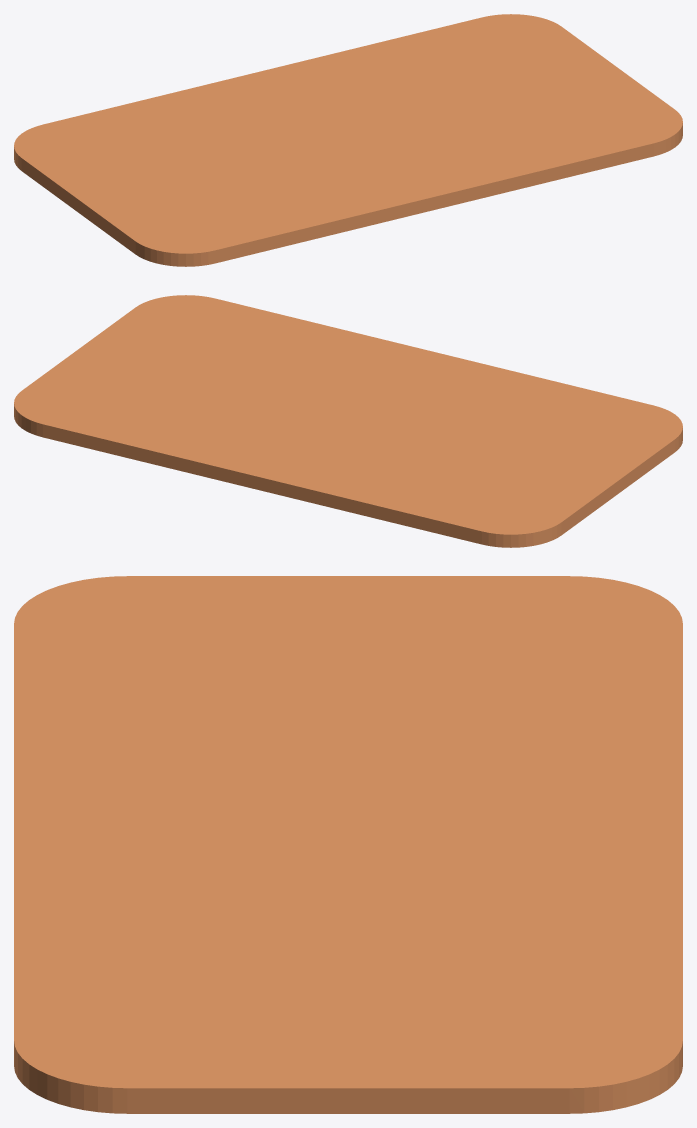
Rendered from DoorMat.obj.
3 renders of one model, top to bottom at view 1: azimuth 30°, elevation 25°; view 2: azimuth 150°, elevation 25°; view 3: azimuth 270°, elevation 25°, orthographic. The views are drawn at different scales.
Parts seen in each view (by area): view 1: Mesh_rugDoormat; view 2: Mesh_rugDoormat; view 3: Mesh_rugDoormat.
Boxes of the visible parts, x1,y1,x2,y2 form: Mesh_rugDoormat: (14, 14, 682, 266); Mesh_rugDoormat: (14, 295, 682, 547); Mesh_rugDoormat: (14, 576, 682, 1113).
Bounding box in the file's own units: 0.7513 × 0.0175 × 0.4148.
